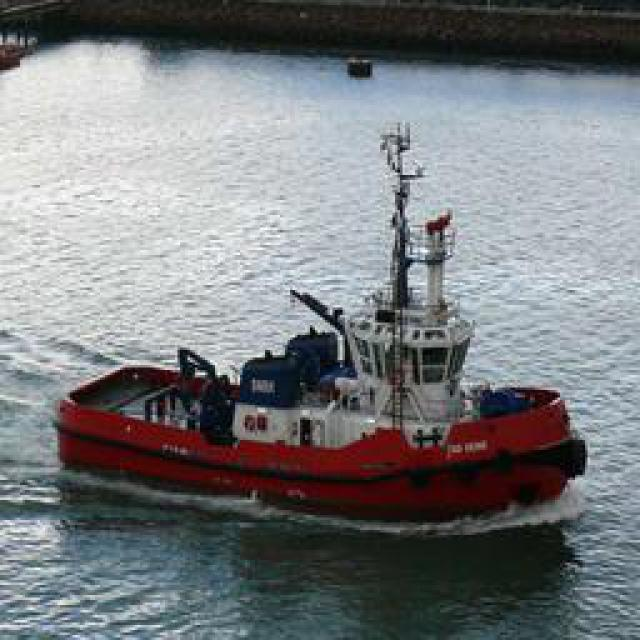Ship: (55, 123, 588, 518)
